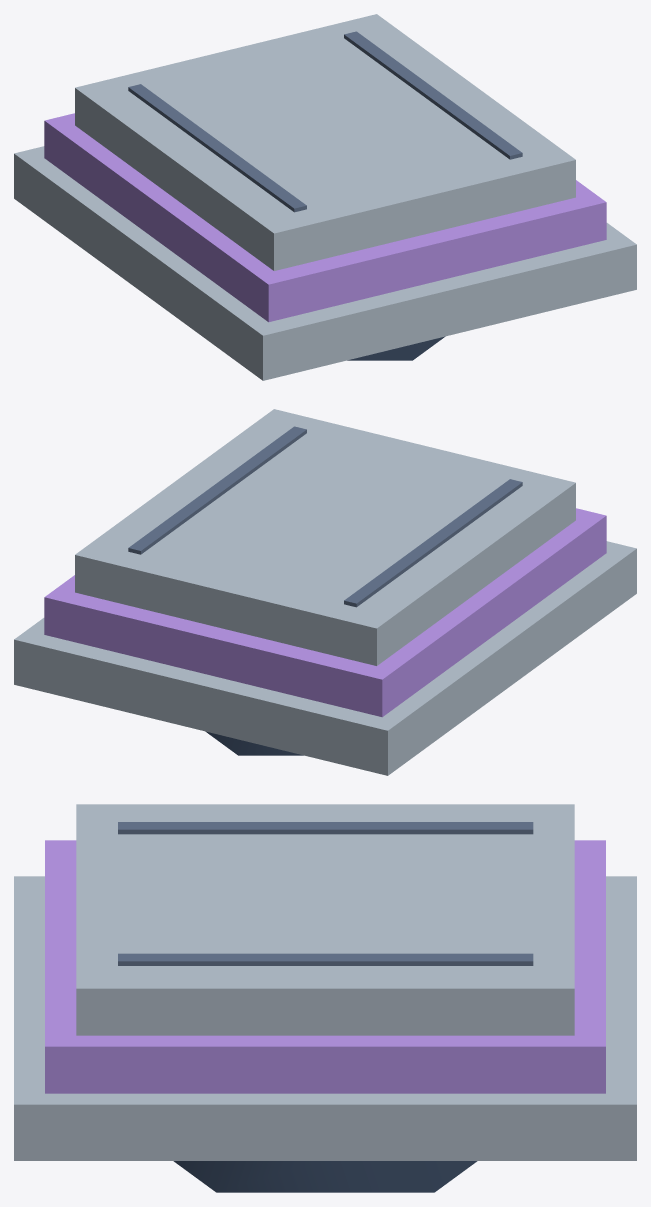
The model's file is cryogenic_hydrocarbon--armor_plate.glb.
3 renders of one model, top to bottom at view 1: azimuth 30°, elevation 25°; view 2: azimuth 150°, elevation 25°; view 3: azimuth 270°, elevation 25°, orthographic. The views are drawn at different scales.
Visible parts, largest first — view 1: layered_armor_5, layered_armor_3, layered_armor_4, armor_brace_7, armor_brace_6, mount_adapter_1; view 2: layered_armor_5, layered_armor_3, layered_armor_4, armor_brace_7, armor_brace_6, mount_adapter_1; view 3: layered_armor_5, layered_armor_3, layered_armor_4, mount_adapter_1, armor_brace_6, armor_brace_7.
Part boxes in pixels (x1=…): layered_armor_5: x1=75, y1=14, x2=575, y2=270; layered_armor_3: x1=14, y1=146, x2=636, y2=380; layered_armor_4: x1=44, y1=113, x2=606, y2=322; armor_brace_7: x1=344, y1=31, x2=522, y2=159; armor_brace_6: x1=128, y1=84, x2=306, y2=212; mount_adapter_1: x1=347, y1=336, x2=445, y2=360; layered_armor_5: x1=75, y1=409, x2=575, y2=665; layered_armor_3: x1=14, y1=541, x2=636, y2=775; layered_armor_4: x1=44, y1=508, x2=606, y2=717; armor_brace_7: x1=128, y1=426, x2=306, y2=554; armor_brace_6: x1=344, y1=479, x2=522, y2=607; mount_adapter_1: x1=205, y1=731, x2=303, y2=755; layered_armor_5: x1=76, y1=804, x2=574, y2=1035; layered_armor_3: x1=14, y1=876, x2=636, y2=1160; layered_armor_4: x1=45, y1=840, x2=605, y2=1093; mount_adapter_1: x1=173, y1=1161, x2=477, y2=1192; armor_brace_6: x1=118, y1=822, x2=533, y2=834; armor_brace_7: x1=118, y1=953, x2=533, y2=965.
Size of the model in its own units: 24.96 by 11.28 by 28.8.
